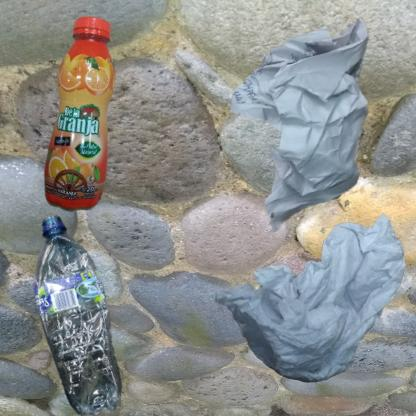botella: (10, 10, 193, 272), (10, 213, 162, 416)
papel: (213, 10, 416, 252), (213, 213, 406, 383)
